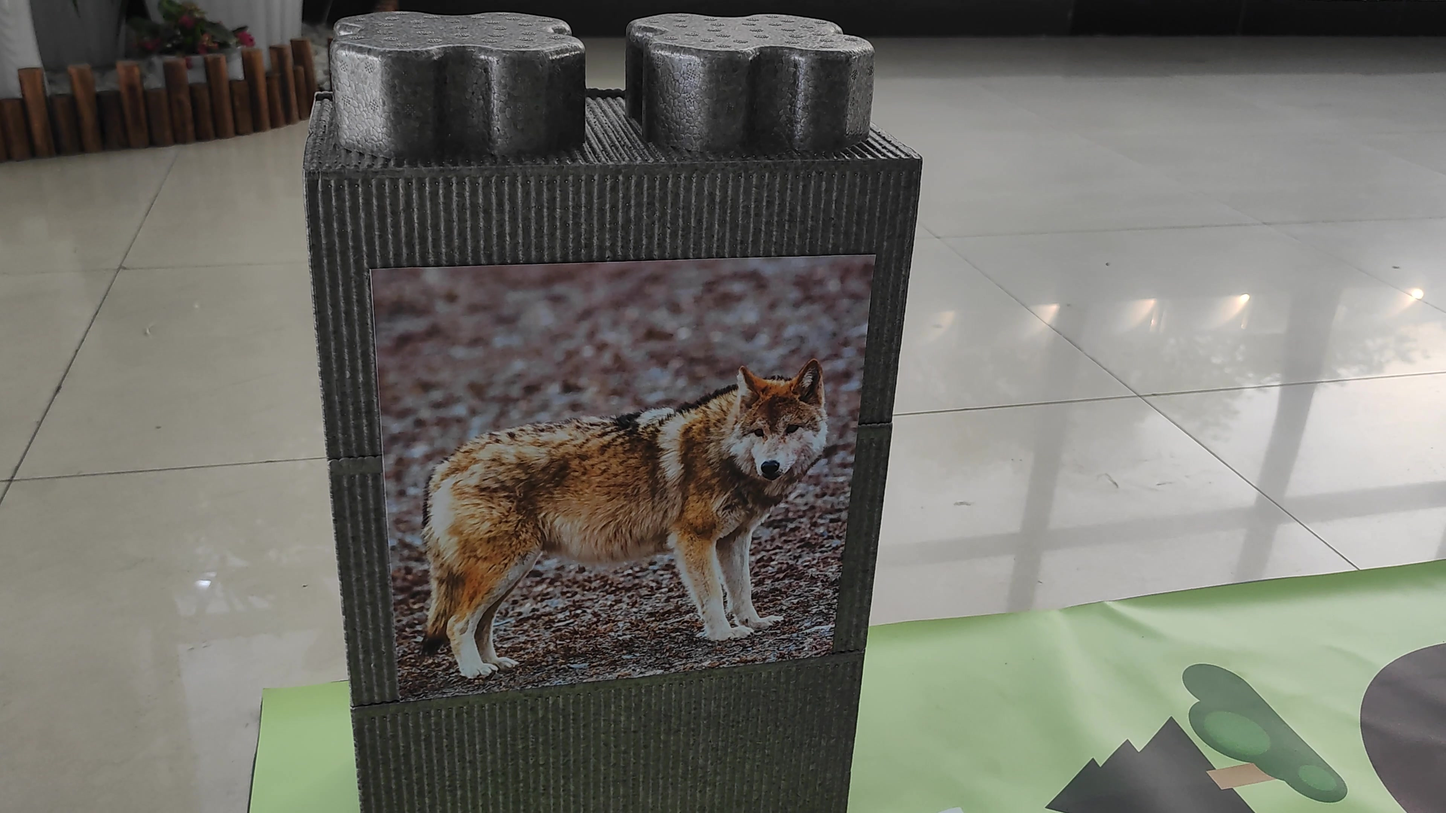wolf: (395, 260, 818, 680)
